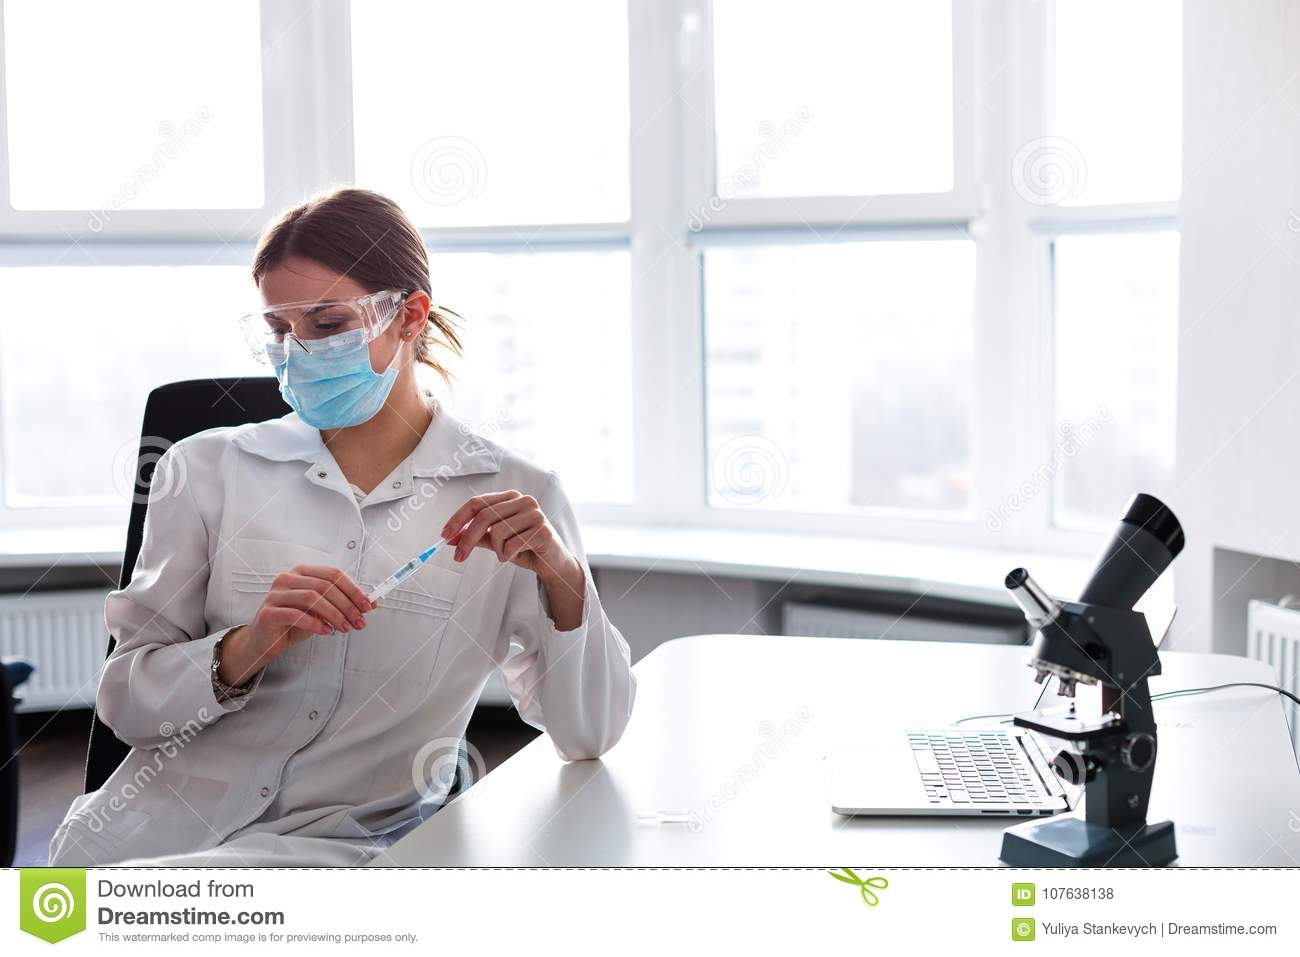mask: (266, 339, 391, 429)
